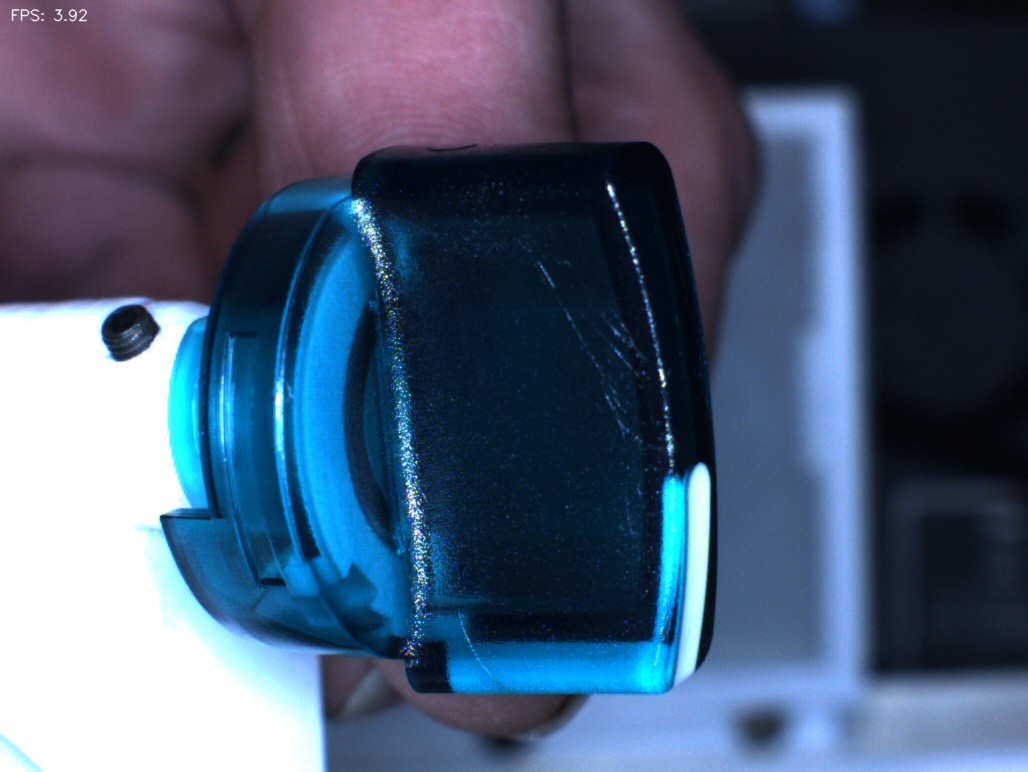Givrage: (527, 255, 661, 478)
